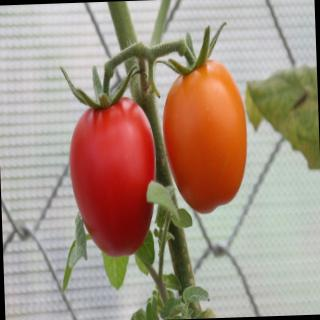Tomat: (61, 59, 161, 261), (155, 22, 251, 217)
